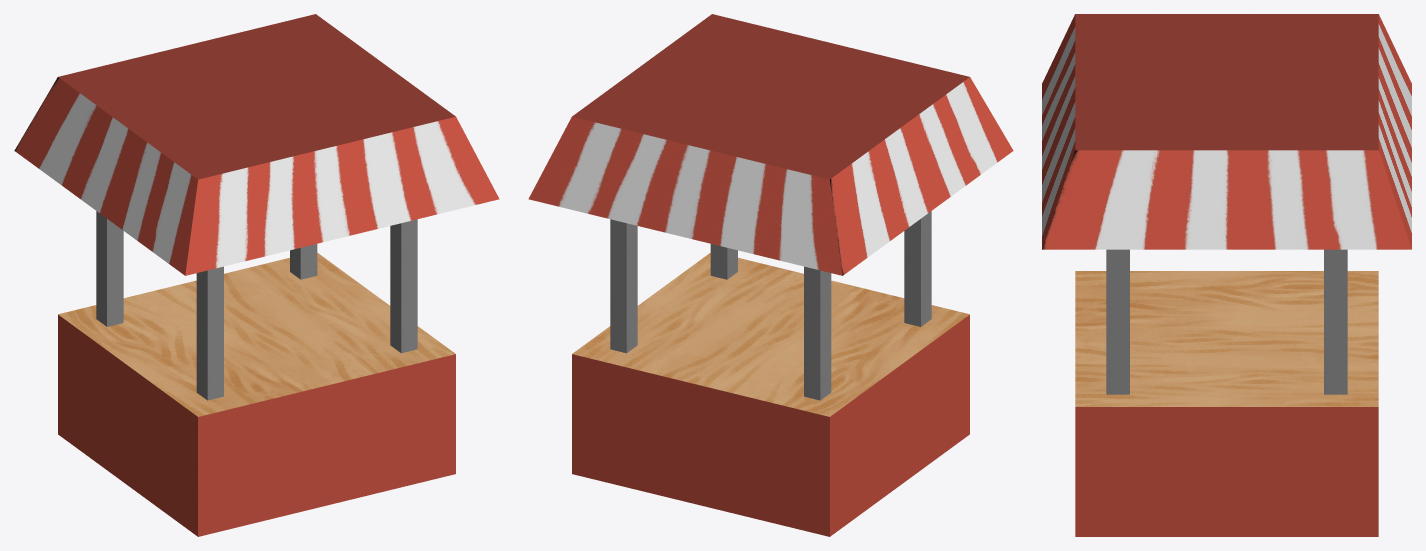
File: Market.fbx
3 views of the same model, side by side, from view 1: azimuth 30°, elevation 25°; view 2: azimuth 150°, elevation 25°; view 3: azimuth 270°, elevation 25° (orthographic). The views are drawn at different scales.
Visible parts, largest first — view 1: Box006; view 2: Box006; view 3: Box006.
Part boxes in pixels (x1,y1,x2,y2): Box006: [14, 14, 499, 536]; Box006: [528, 14, 1013, 536]; Box006: [1042, 14, 1411, 536].
Bounding box in the file's own units: 112 × 121 × 105.
Materials: 1 (1 with a texture image).
